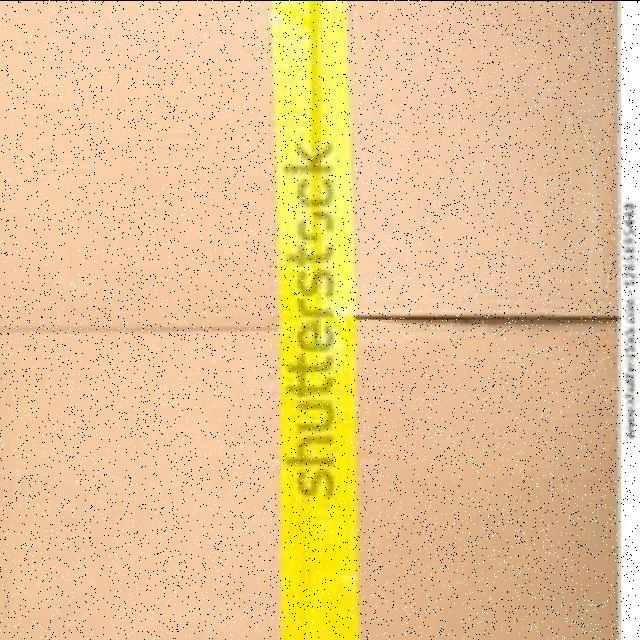normal: (2, 1, 616, 632)
